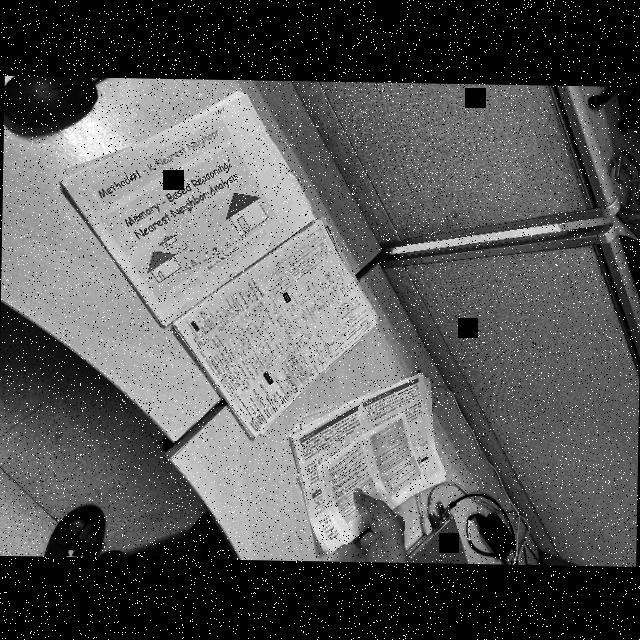reuseable_paper: (56, 90, 388, 440), (286, 364, 450, 556)
